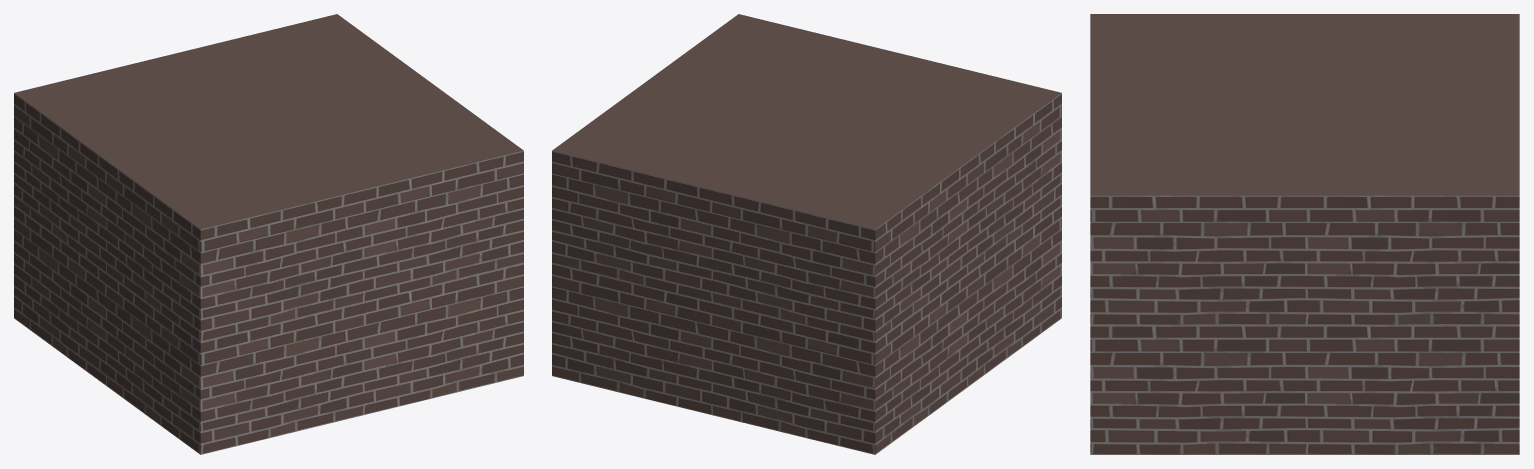
File: Bock_E1.fbx
The picture shows the model from 3 angles, left to right: view 1: azimuth 30°, elevation 25°; view 2: azimuth 150°, elevation 25°; view 3: azimuth 270°, elevation 25°; orthographic projection. The views are drawn at different scales.
Visible parts, largest first — view 1: Bock_E1; view 2: Bock_E1; view 3: Bock_E1.
Boxes of the visible parts, left/top/right/bottom form: Bock_E1: left=14, top=14, right=523, bottom=454; Bock_E1: left=552, top=14, right=1061, bottom=454; Bock_E1: left=1090, top=14, right=1519, bottom=454.
Bounding box in the file's own units: 600 × 400 × 600.
